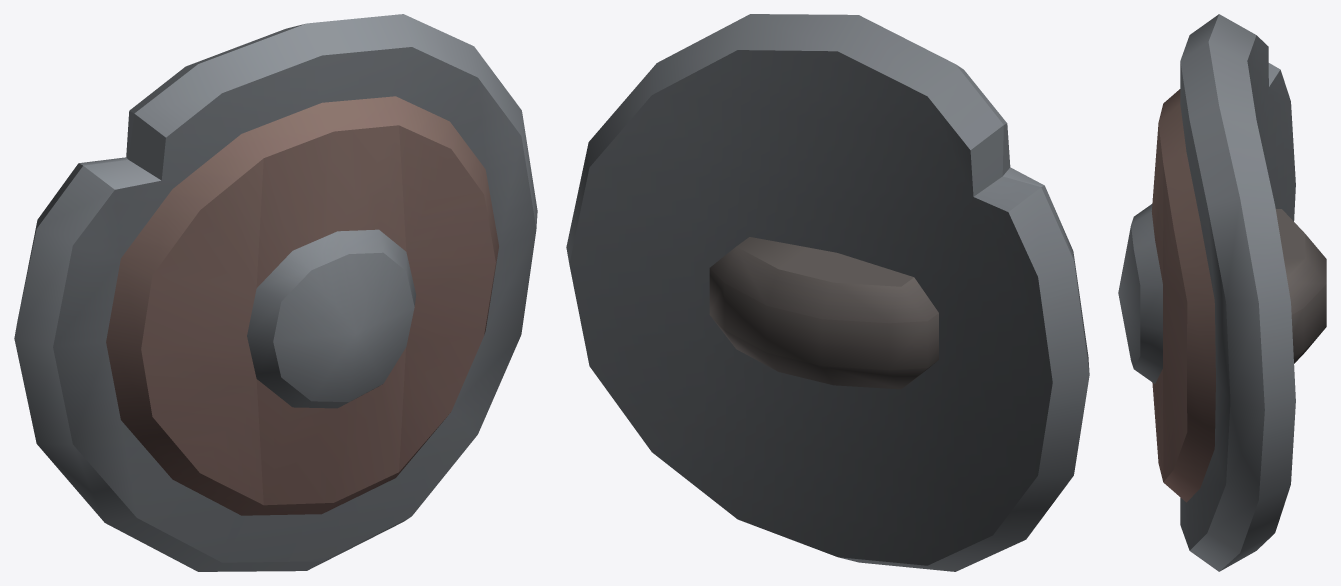
File: shield_round.glb
3 views of the same model, side by side, from view 1: azimuth 30°, elevation 25°; view 2: azimuth 150°, elevation 25°; view 3: azimuth 270°, elevation 25° (orthographic). The views are drawn at different scales.
Visible parts, largest first — view 1: shield_round; view 2: shield_round; view 3: shield_round.
Part boxes in pixels (left/top/right/bottom): shield_round: left=14, top=14, right=537, bottom=571; shield_round: left=566, top=14, right=1089, bottom=571; shield_round: left=1118, top=14, right=1326, bottom=571.
Bounding box in the file's own units: 0.8826 × 0.8826 × 0.3319.
Materials: 1 (1 with a texture image).
